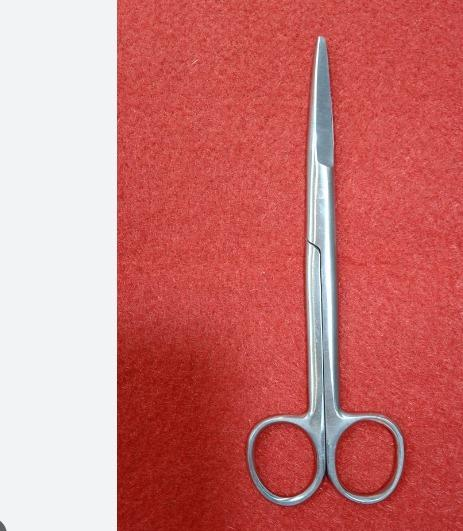Straight Mayo: (238, 33, 411, 508)
